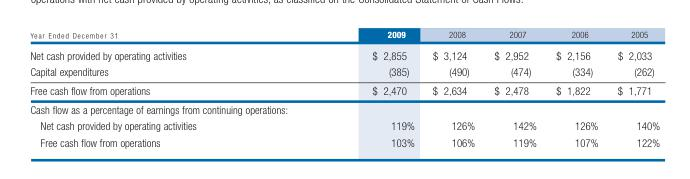table: (29, 28, 659, 148)
table column: (29, 28, 283, 148), (283, 28, 422, 148), (483, 28, 545, 148), (545, 28, 607, 148), (422, 28, 483, 148), (607, 28, 659, 148)
table column header: (29, 28, 659, 43)
table projected row header: (29, 99, 659, 117)
table row: (29, 43, 659, 63), (29, 80, 659, 99), (29, 99, 659, 117), (29, 63, 659, 80), (29, 117, 659, 133), (29, 28, 659, 43), (29, 133, 659, 148)
